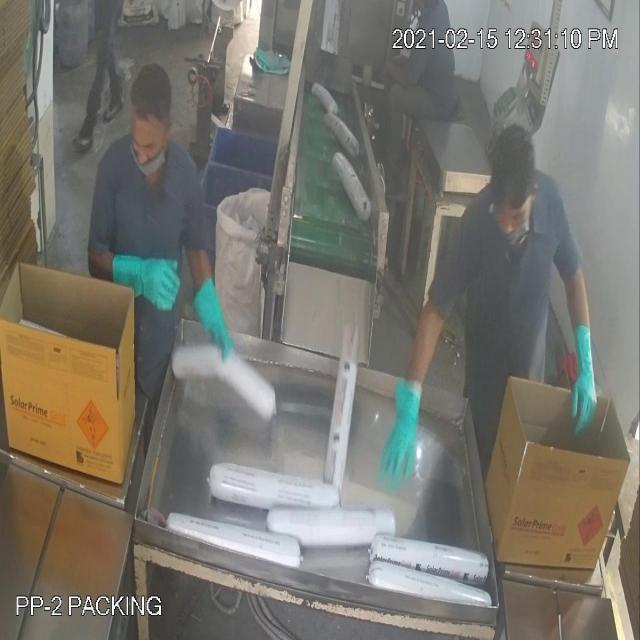Gloves: (40, 98, 584, 424)
